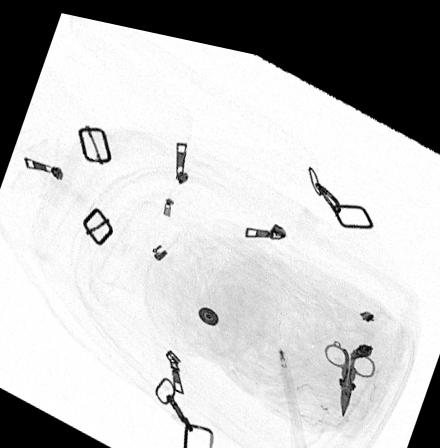Scissors: (324, 331, 377, 403)
